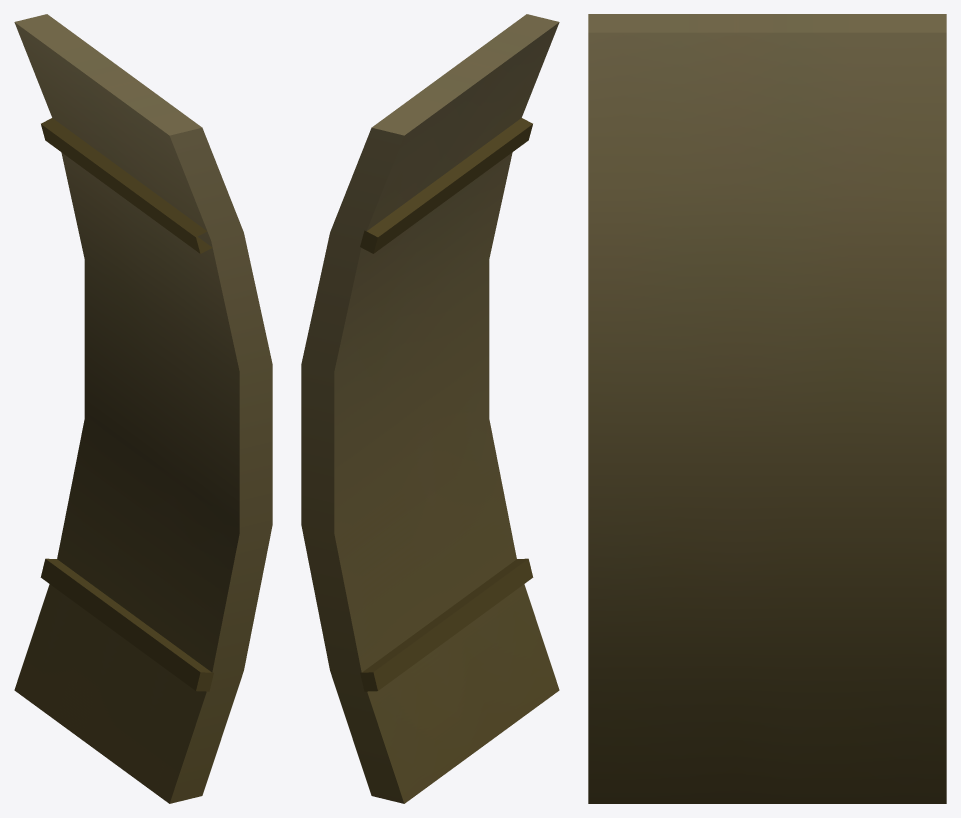
Rendered from SM_WallU_02.fbx.
The picture shows the model from 3 angles, left to right: view 1: azimuth 30°, elevation 25°; view 2: azimuth 150°, elevation 25°; view 3: azimuth 270°, elevation 25°; orthographic projection. The views are drawn at different scales.
Visible parts, largest first — view 1: SM_WallU_02; view 2: SM_WallU_02; view 3: SM_WallU_02.
Boxes of the visible parts, x1=… form: SM_WallU_02: x1=14, y1=14, x2=272, y2=803; SM_WallU_02: x1=301, y1=14, x2=559, y2=803; SM_WallU_02: x1=588, y1=14, x2=946, y2=803.
Bounding box in the file's own units: 0.6439 × 1.68 × 3.99.
